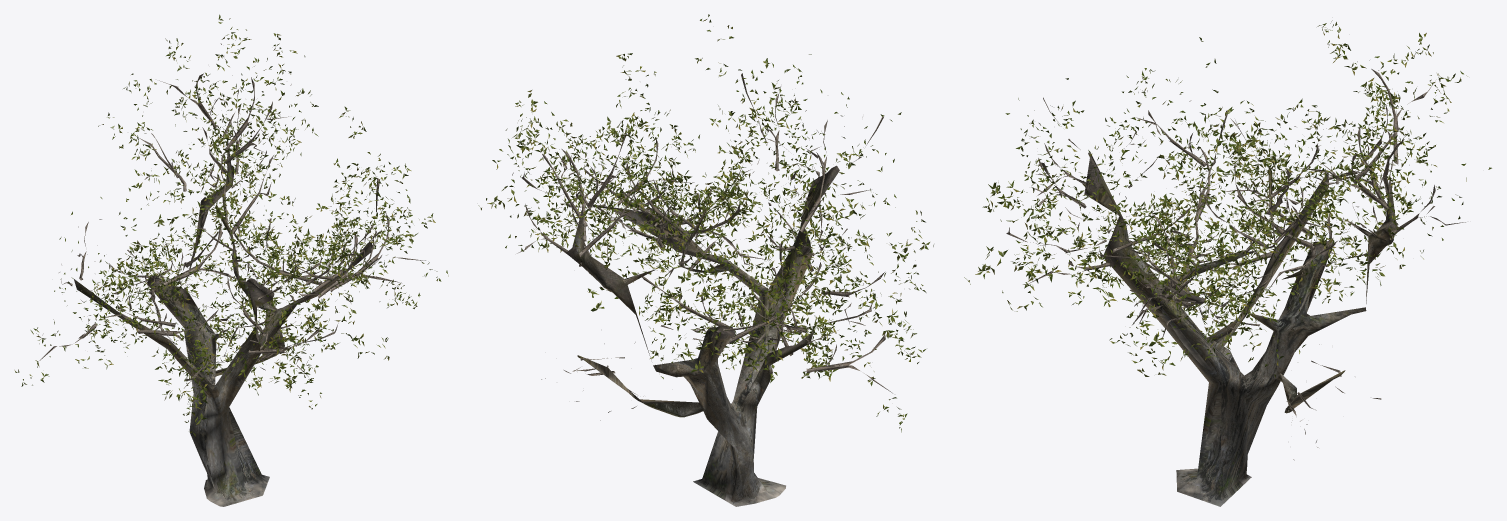
The model's file is island_tree_01-lod.glb.
3 renders of one model, left to right at view 1: azimuth 30°, elevation 25°; view 2: azimuth 150°, elevation 25°; view 3: azimuth 270°, elevation 25°, orthographic. The views are drawn at different scales.
Parts seen in each view (by area): view 1: island_tree_01_LOD0; view 2: island_tree_01_LOD0; view 3: island_tree_01_LOD0.
Part boxes in pixels (x1,y1,x2,y2): island_tree_01_LOD0: (14,14,448,506); island_tree_01_LOD0: (478,14,933,506); island_tree_01_LOD0: (964,20,1491,506).
Bounding box in the file's own units: 4.7 × 4.98 × 4.79.
3 materials, 3 textured.
